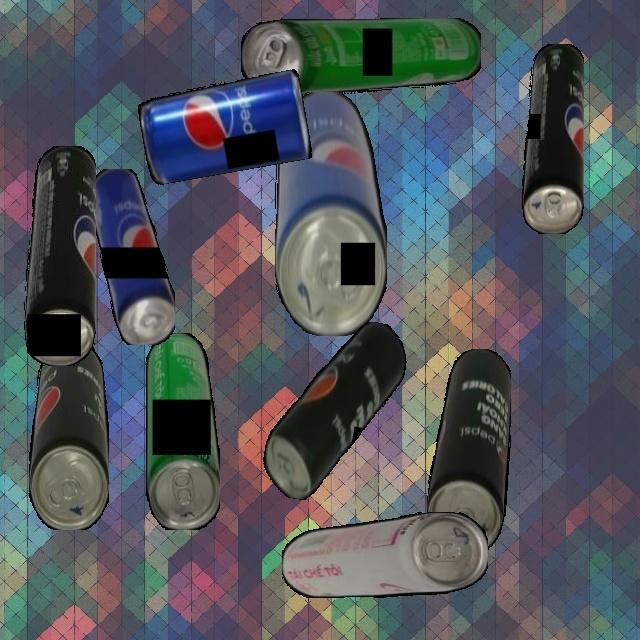debris: (258, 308, 412, 513), (274, 91, 387, 336), (136, 69, 313, 186), (241, 17, 481, 95), (281, 512, 488, 598), (426, 348, 511, 553), (23, 145, 96, 366), (28, 340, 109, 530), (90, 168, 175, 345), (145, 332, 220, 530), (521, 43, 584, 234)
